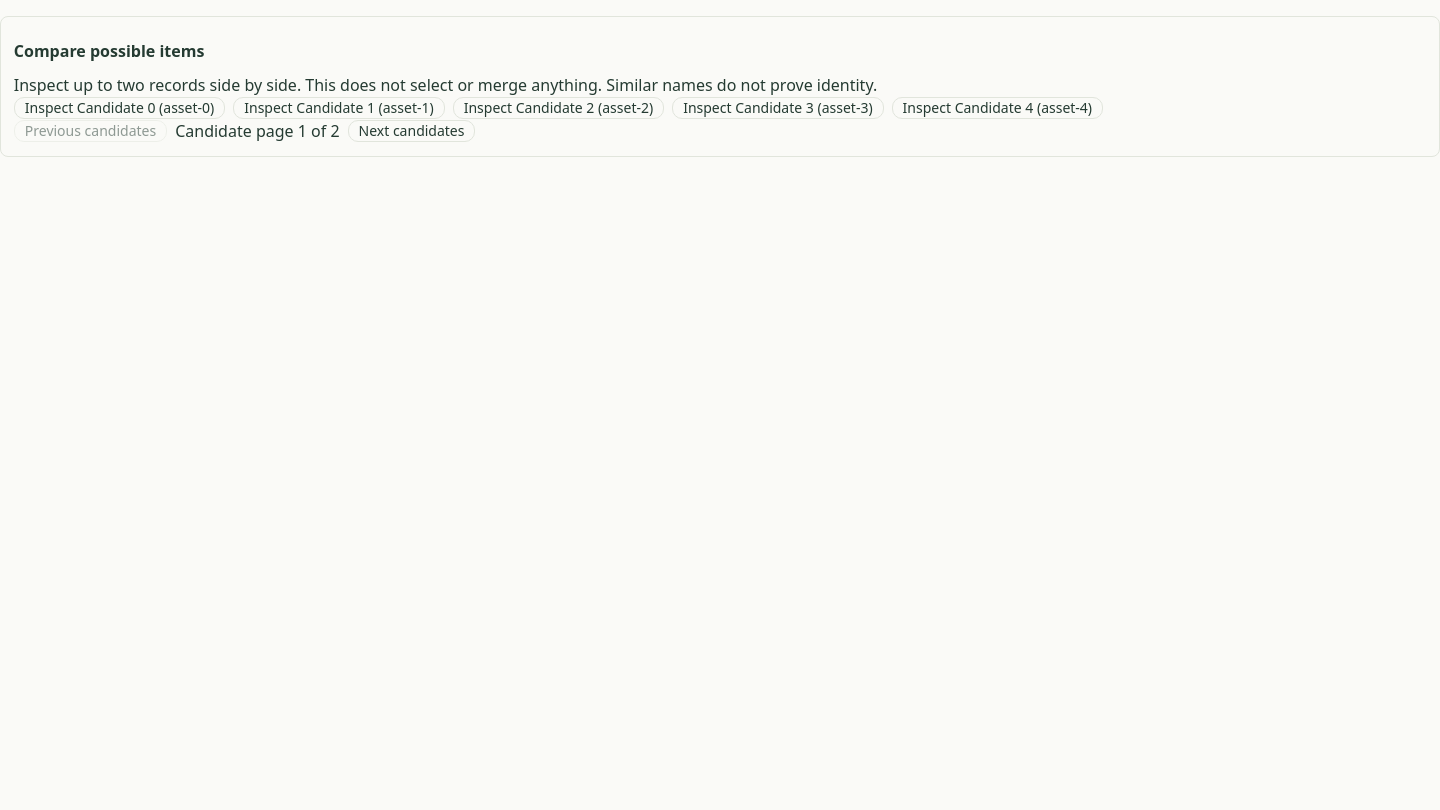
it: pages candidate buttons and retries a failed private read
This screenshot has width=1440, height=810.
Expected: the button "Inspect Candidate 5 (asset-5)" is not shown
Step 1. Click the button "Next candidates" → (411, 131), box [348,120,475,142]
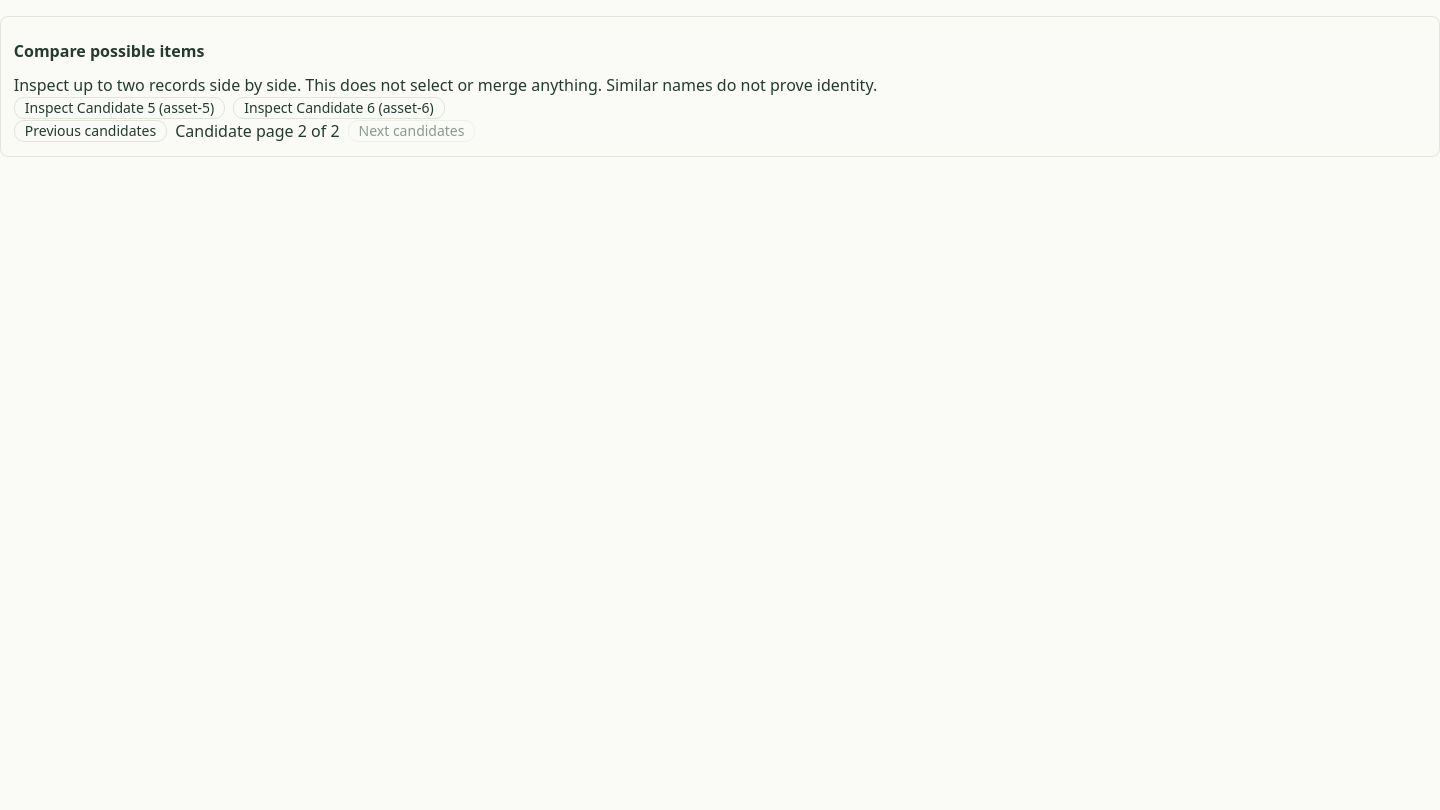
Step 2. Click the button "Inspect Candidate 5 (asset-5)" → (120, 108), box [14,97,225,119]
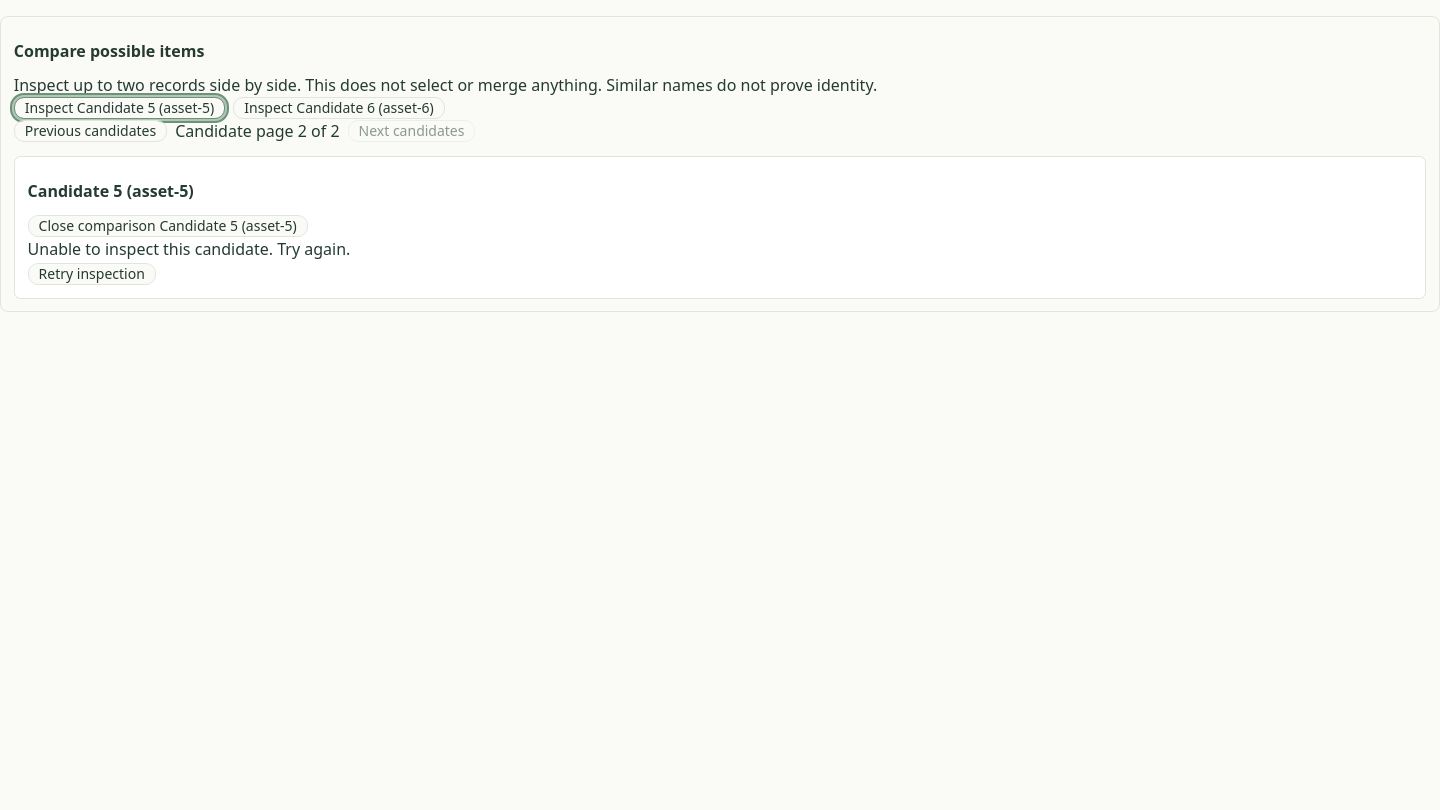
Expected: the message "Unable to inspect this candidate. Try again." is shown, [28,238,350,260]
Step 3. Click the button "Retry inspection" → (92, 274), box [28,263,156,285]
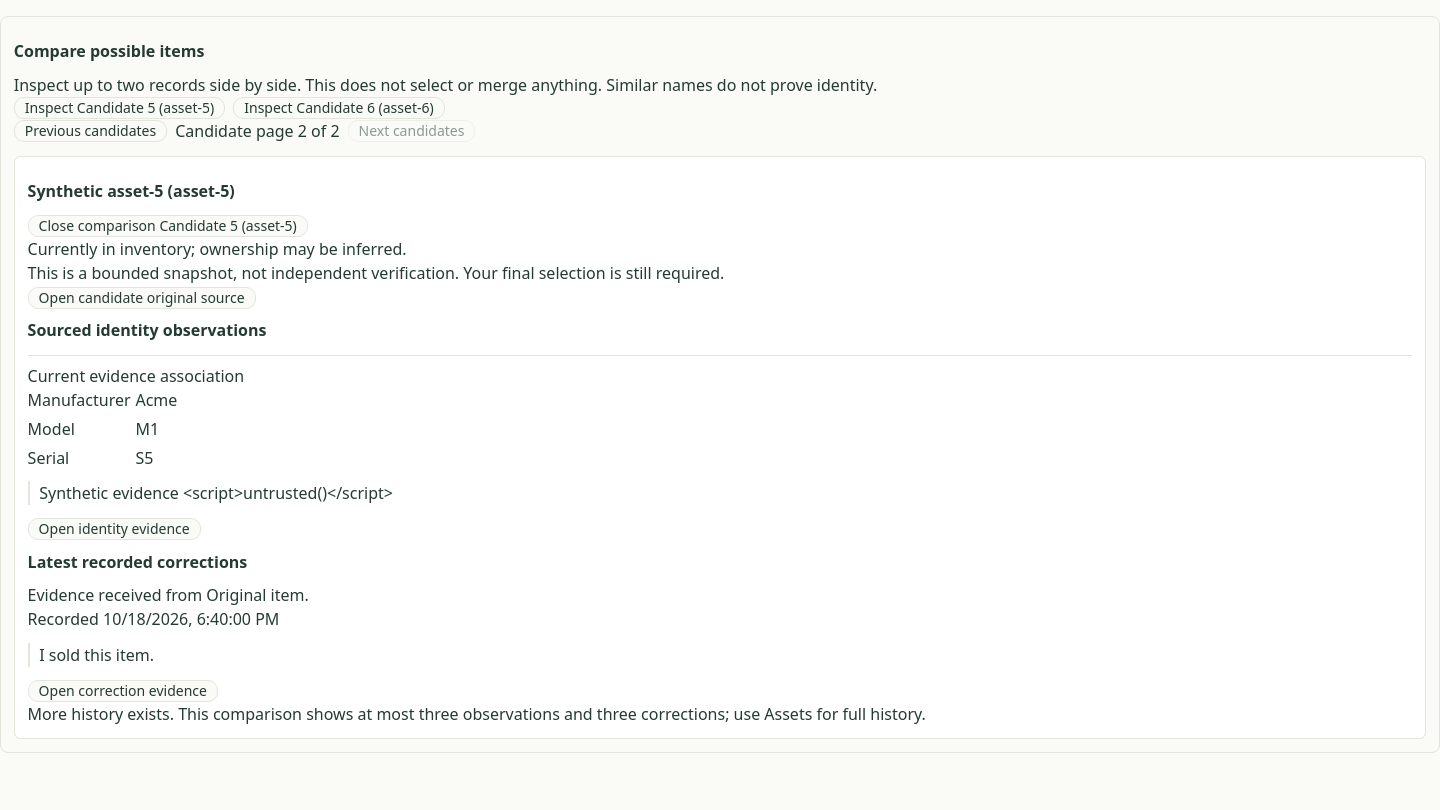
Expected: the button "Next candidates" is disabled, [348,120,475,142]
Expected: the text "S5" is shown, [135,447,153,469]
